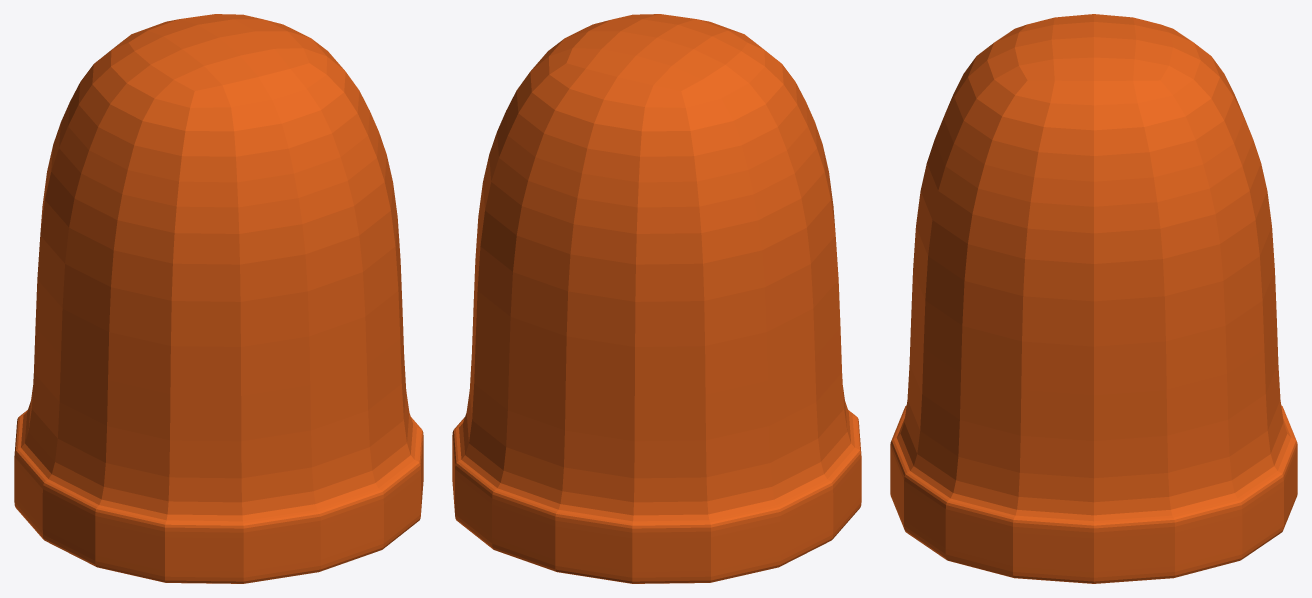
File: Beacon Light.fbx
3 renders of one model, left to right at view 1: azimuth 30°, elevation 25°; view 2: azimuth 150°, elevation 25°; view 3: azimuth 270°, elevation 25°, orthographic.
Visible parts, largest first — view 1: Cube; view 2: Cube; view 3: Cube.
Boxes of the visible parts, x1,y1,x2,y2 form: Cube: (14,14,423,583); Cube: (452,14,861,583); Cube: (890,14,1297,583).
Size of the model in its own units: 204 by 256 by 204.
